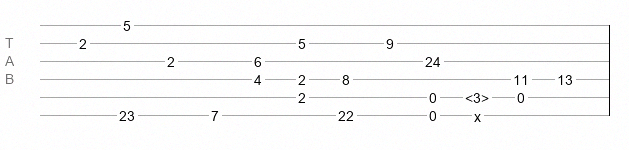0: (429, 108, 437, 118), (429, 90, 437, 100), (517, 90, 525, 100)
11: (513, 72, 529, 82)
13: (557, 72, 573, 82)
2: (79, 36, 87, 46), (167, 54, 175, 64), (298, 90, 306, 100), (298, 72, 306, 82)
22: (338, 108, 354, 118)
23: (119, 108, 135, 118)
24: (425, 54, 441, 64)
4: (254, 72, 262, 82)
5: (123, 18, 131, 28), (298, 36, 306, 46)
6: (254, 54, 262, 64)
7: (211, 108, 219, 118)
8: (342, 72, 350, 82)
9: (386, 36, 394, 46)
harmonic: (465, 90, 489, 100)
x: (474, 109, 481, 117)
